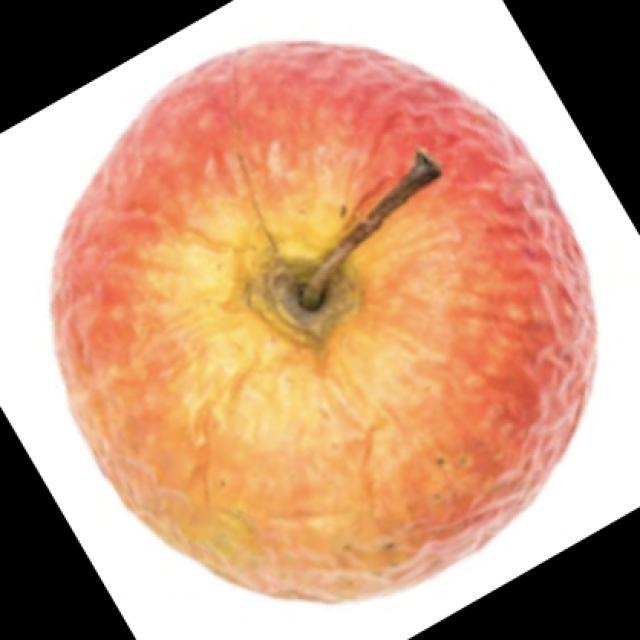Rotten: (71, 43, 582, 590)
